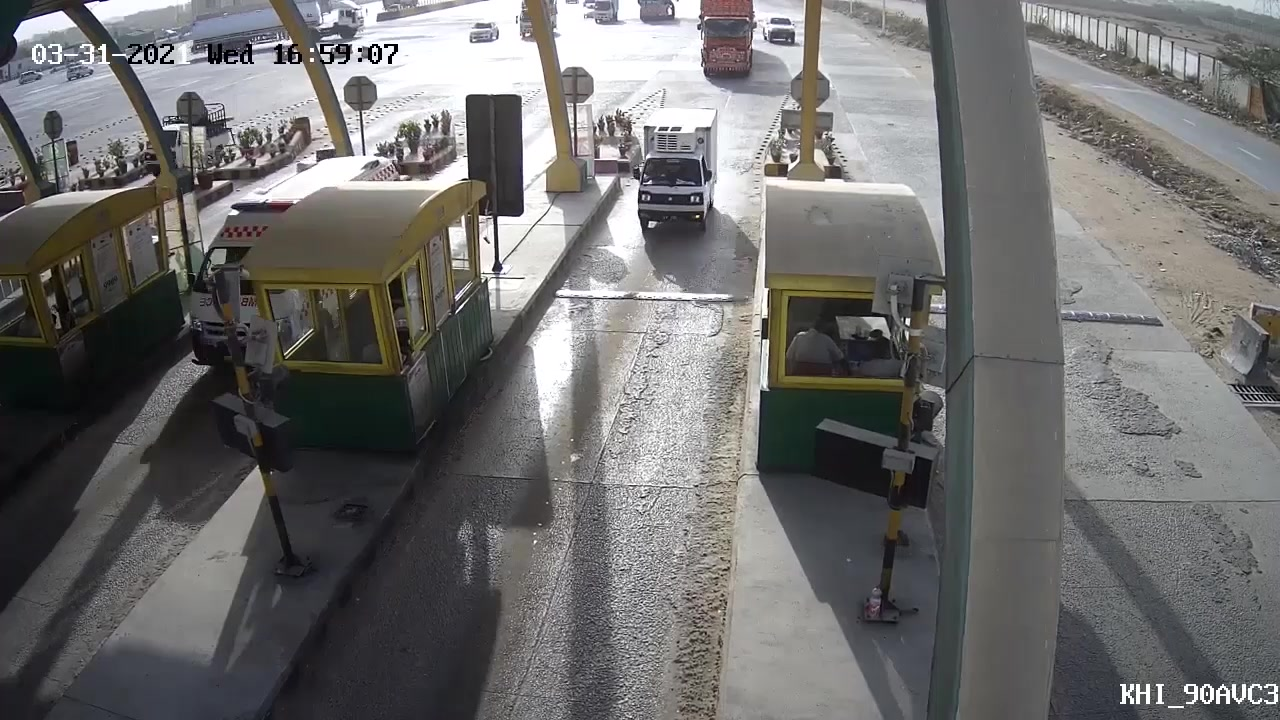F1: (630, 100, 724, 231)
F5: (679, 3, 763, 83)
